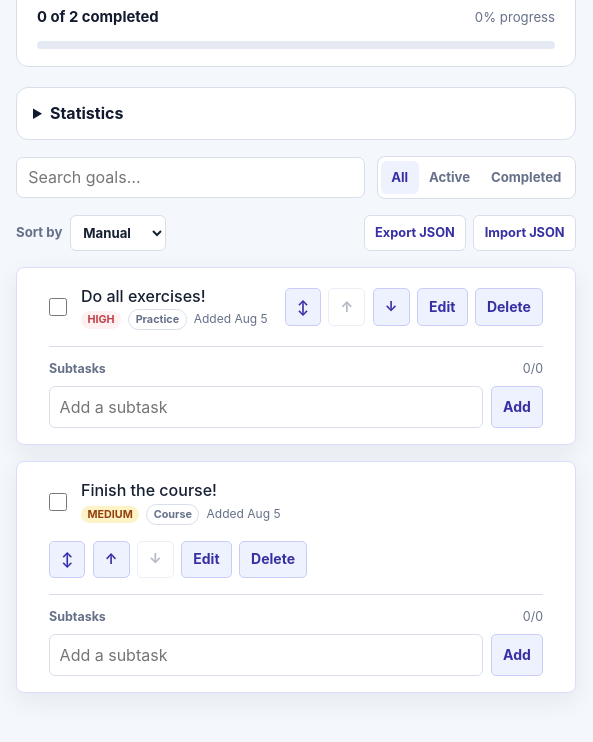
Test case: Course Goals › edits an existing goal
The width and height of the screenshot is (593, 742).
(page scrolled)
Step 1. Click the button with aria-label "Edit goal: Finish the course!" → (206, 560), box 181,541 -> 232,578
(page scrolled)
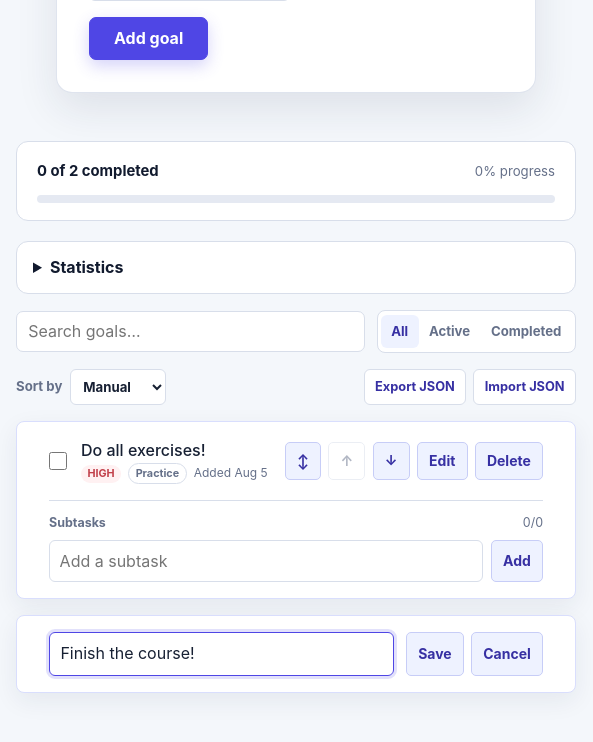
Step 2. Replace the text in the field named "Edit goal" with "Finish the React course!" → (221, 654), box 49,632 -> 394,676
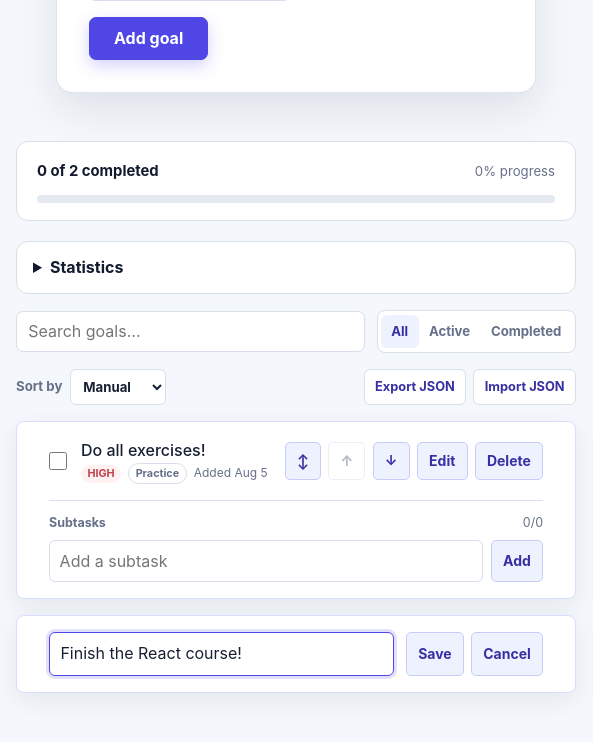
Step 3. Click the button "Save" → (435, 654), box 406,632 -> 464,676
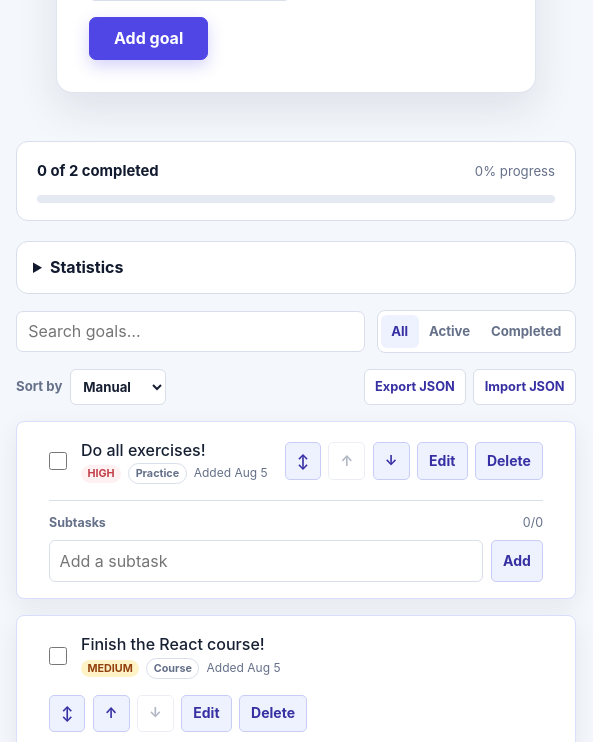
Result: the text "Finish the React course!" is shown at 81,632 -> 280,658
